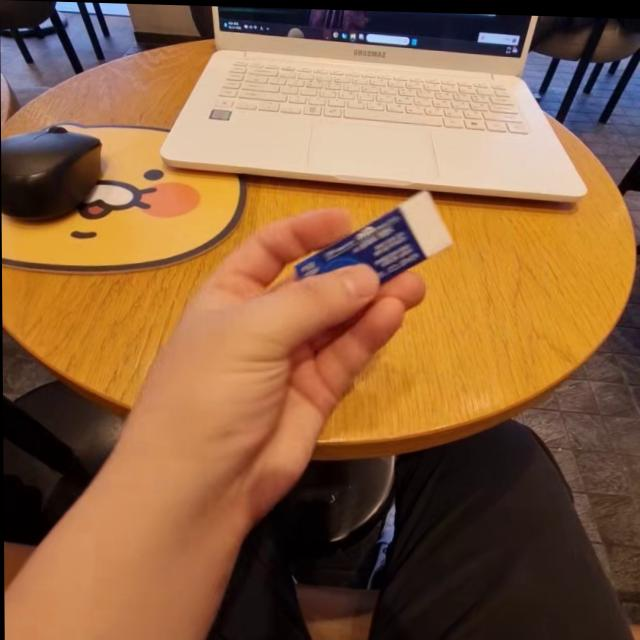grab_eraser: (172, 177, 458, 501)
mouse: (1, 123, 114, 240)
